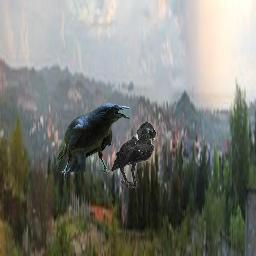Crow: (54, 103, 131, 180), (111, 122, 157, 188)
